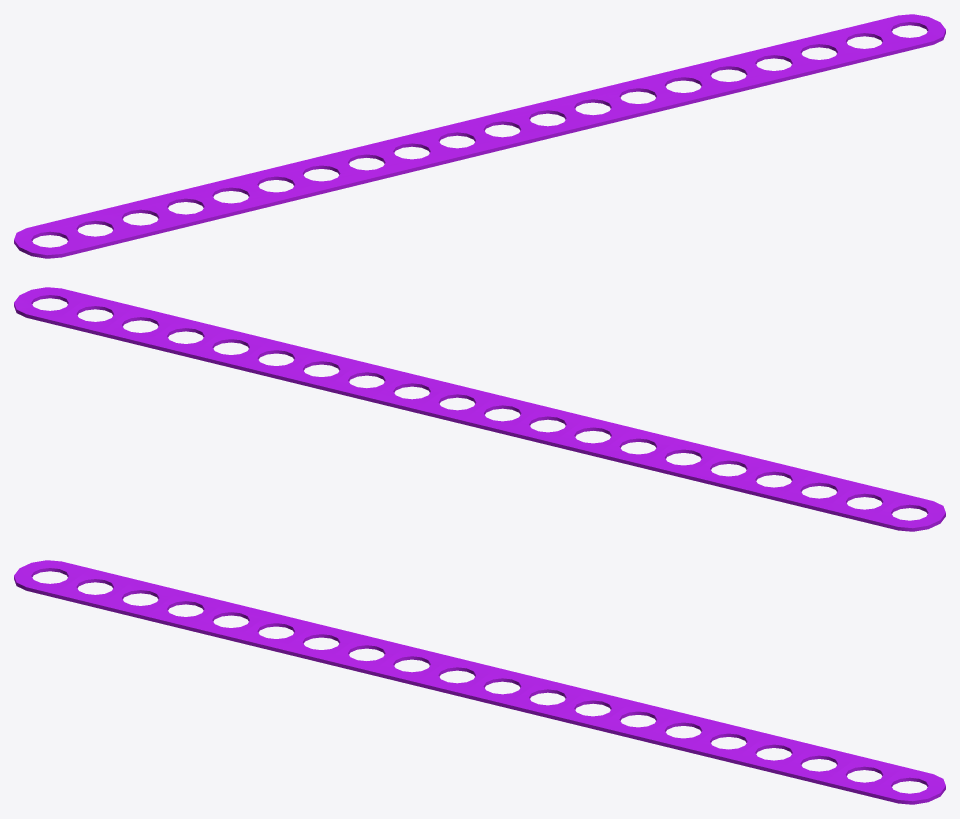
File: TwentyLongPink.fbx
3 renders of one model, top to bottom at view 1: azimuth 30°, elevation 25°; view 2: azimuth 150°, elevation 25°; view 3: azimuth 330°, elevation 25°, orthographic.
Visible parts, largest first — view 1: Blue20; view 2: Blue20; view 3: Blue20.
Part boxes in pixels (left/top/right/bottom): Blue20: left=14, top=14, right=945, bottom=258; Blue20: left=14, top=287, right=945, bottom=531; Blue20: left=14, top=560, right=945, bottom=804.
Size of the model in its own units: 52.03 by 0.1942 by 3.45.
